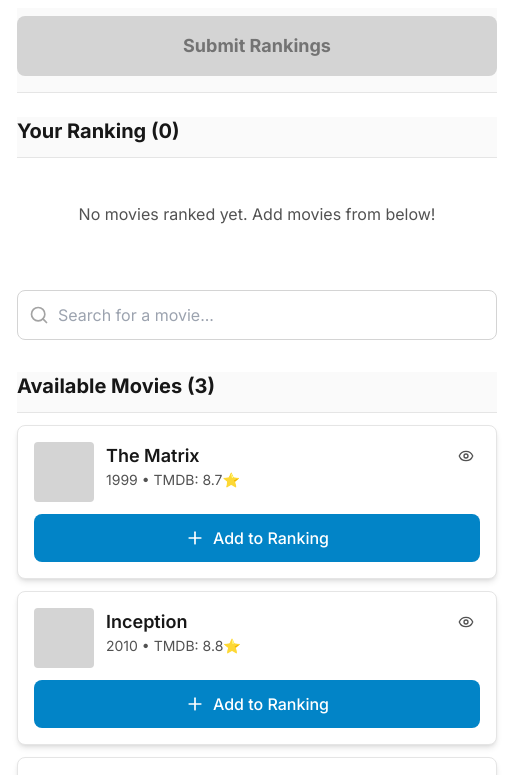
Test: VotingInterface › should remove movie from ranking
// Add a movie to ranking
Click the button "Add to Ranking" below "1999" at point(257, 538), box [34, 514, 480, 562]
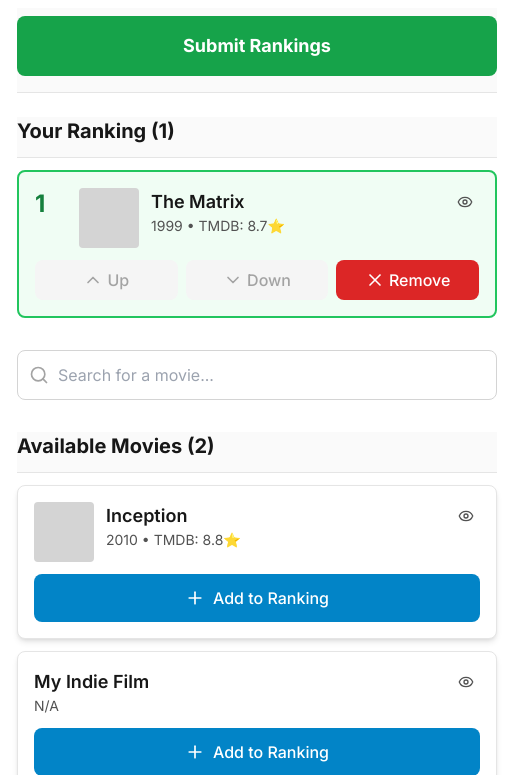
// Remove it
Click the button "Remove" at point(408, 280), box [336, 260, 479, 300]
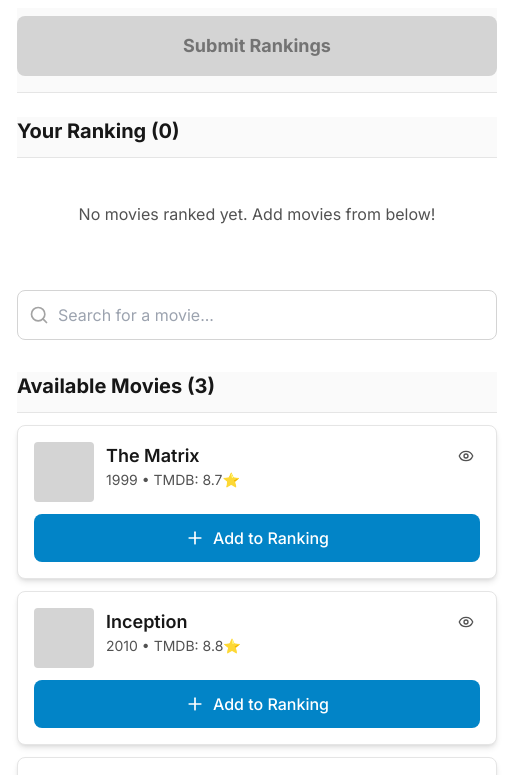
Result: the heading "Available Movies (3)" is shown at [17, 374, 215, 398]
Result: the heading "Your Ranking (0)" is shown at [17, 119, 180, 143]
